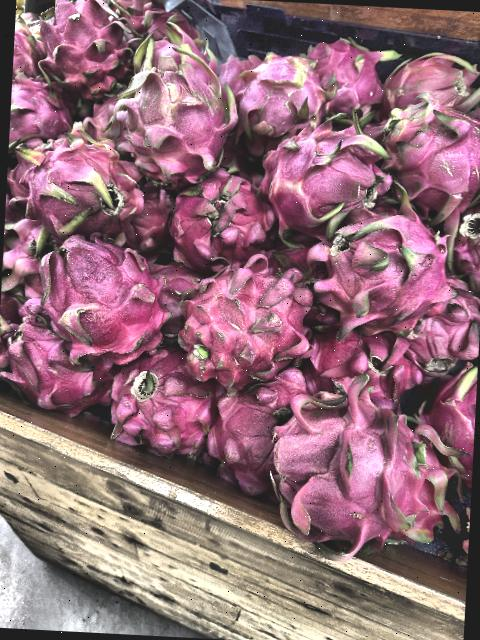buah-naga-belum-matang: (114, 44, 242, 181), (230, 44, 331, 154)
buah-naga-matang: (268, 366, 456, 560), (176, 249, 320, 386), (30, 235, 178, 368), (323, 208, 459, 328), (263, 120, 396, 242), (17, 133, 156, 247), (375, 92, 480, 227), (108, 348, 225, 456), (0, 313, 106, 420), (168, 166, 280, 266), (207, 382, 297, 494), (32, 0, 136, 92), (300, 30, 394, 119), (310, 320, 412, 402), (376, 44, 476, 110), (397, 301, 480, 377), (422, 366, 478, 472), (9, 68, 81, 148), (448, 203, 480, 288)
